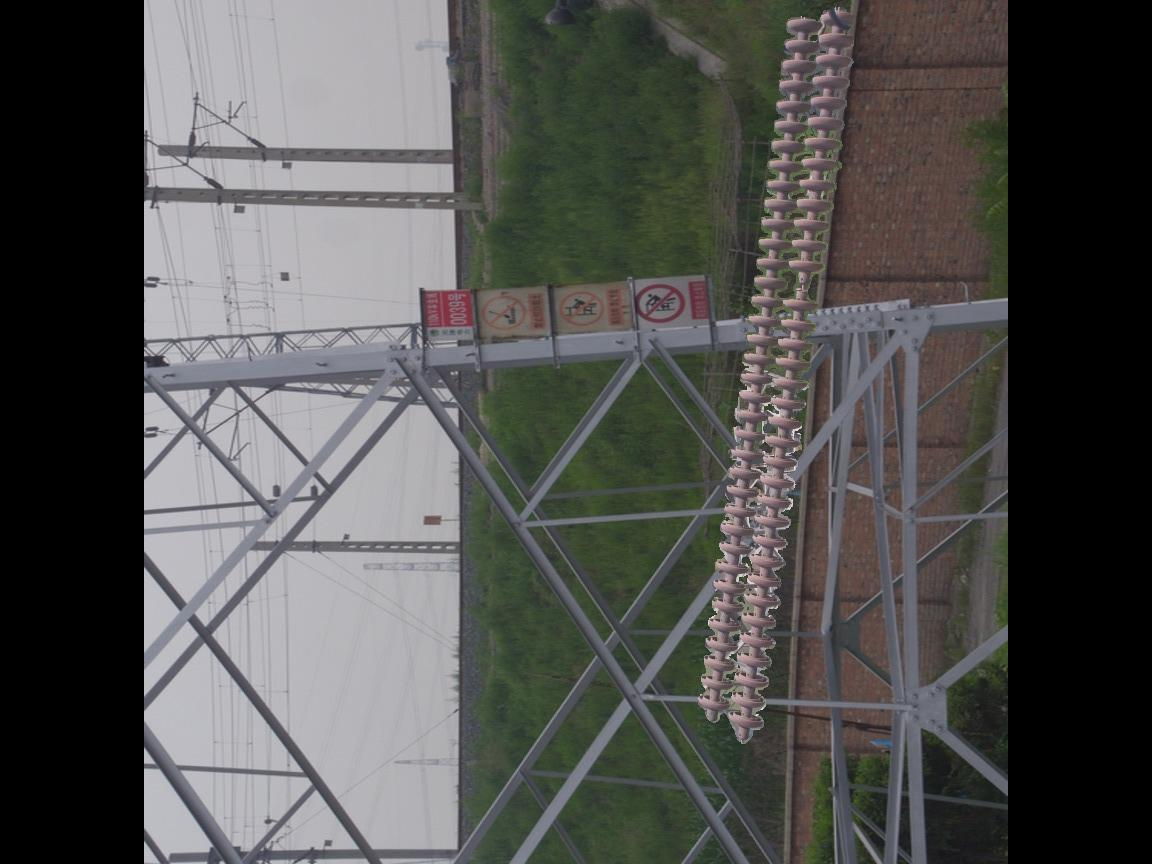insulator: (694, 1, 860, 746)
insulator_stringdrop: (778, 256, 827, 316)
